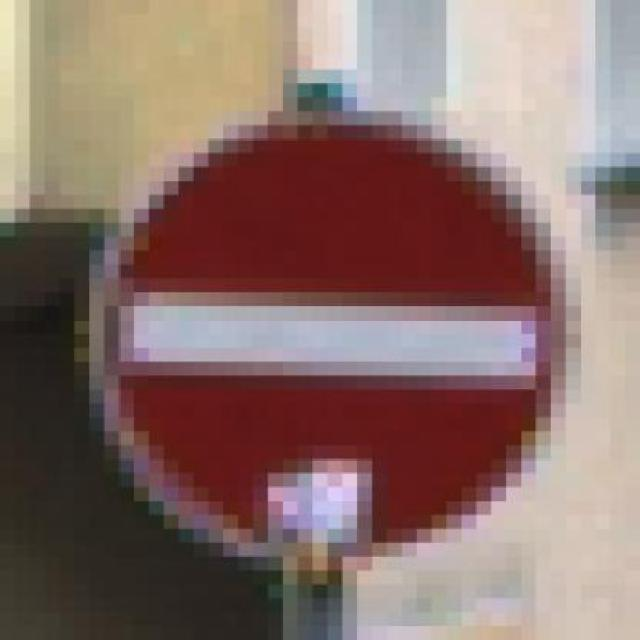B2: (84, 113, 570, 559)
